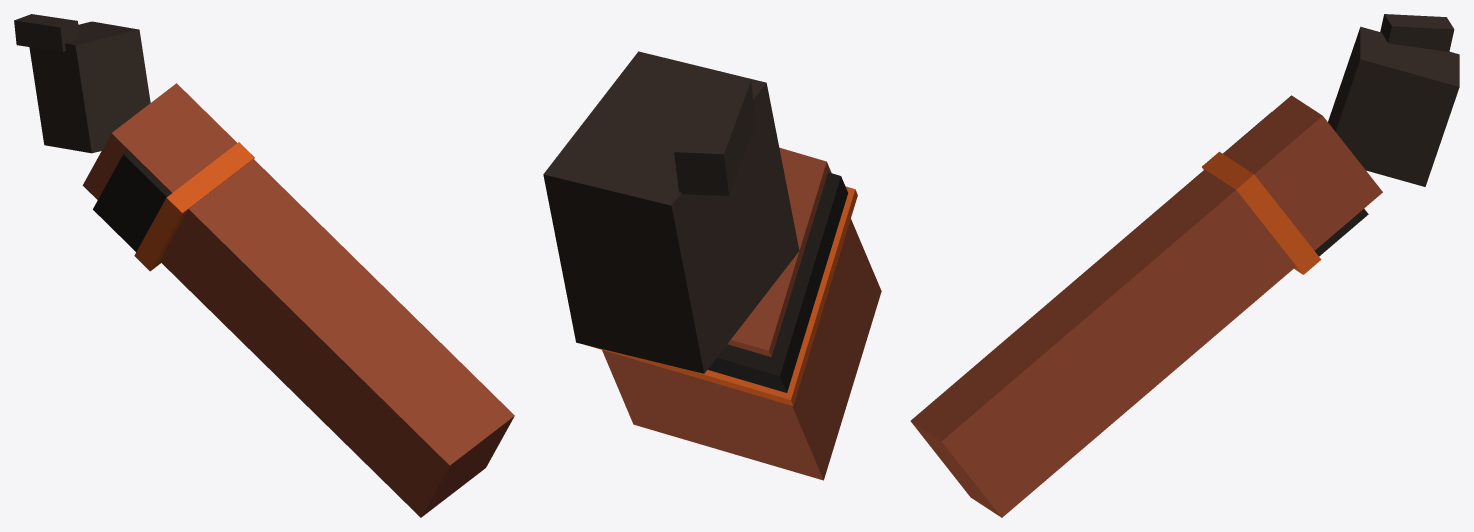
File: BO_SM_Arms_FoxR_v001.glb
The picture shows the model from 3 angles, left to right: view 1: azimuth 30°, elevation 25°; view 2: azimuth 150°, elevation 25°; view 3: azimuth 270°, elevation 25°; orthographic projection. The views are drawn at different scales.
Visible parts, largest first — view 1: body_004, body_000, body_002, body_003, body_001; view 2: body_000, body_004, body_001, body_002, body_003; view 3: body_004, body_000, body_003, body_001.
Part boxes in pixels (<box>): body_004: <box>82,83,514,517</box>; body_000: <box>29,21,150,153</box>; body_002: <box>93,151,170,251</box>; body_003: <box>134,142,254,271</box>; body_001: <box>14,14,79,51</box>; body_000: <box>543,51,799,373</box>; body_004: <box>602,147,881,480</box>; body_001: <box>674,78,755,195</box>; body_002: <box>707,172,847,392</box>; body_003: <box>587,186,857,406</box>; body_004: <box>910,95,1382,517</box>; body_000: <box>1328,26,1459,186</box>; body_003: <box>1202,151,1321,274</box>; body_001: <box>1380,14,1454,51</box>.
Bounding box in the file's own units: 0.2098 × 0.2984 × 0.3704.
